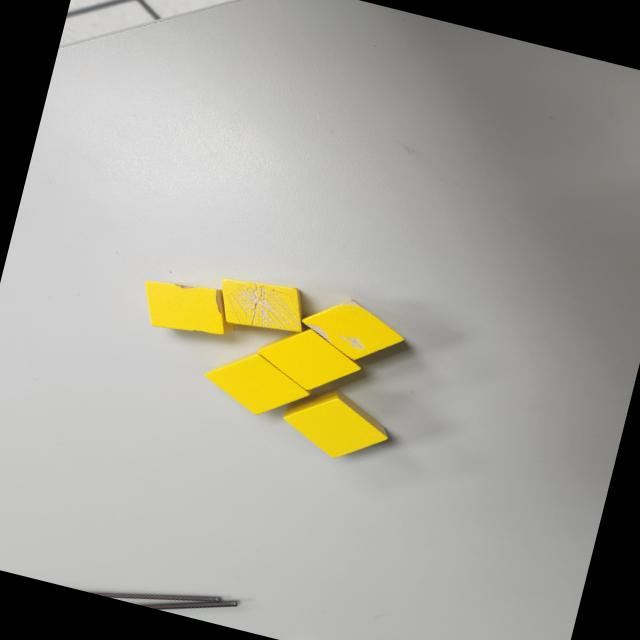broken: (293, 288, 412, 372), (133, 270, 236, 344), (210, 270, 310, 340)
yellow: (274, 376, 397, 471), (195, 340, 318, 428), (249, 316, 368, 402)
